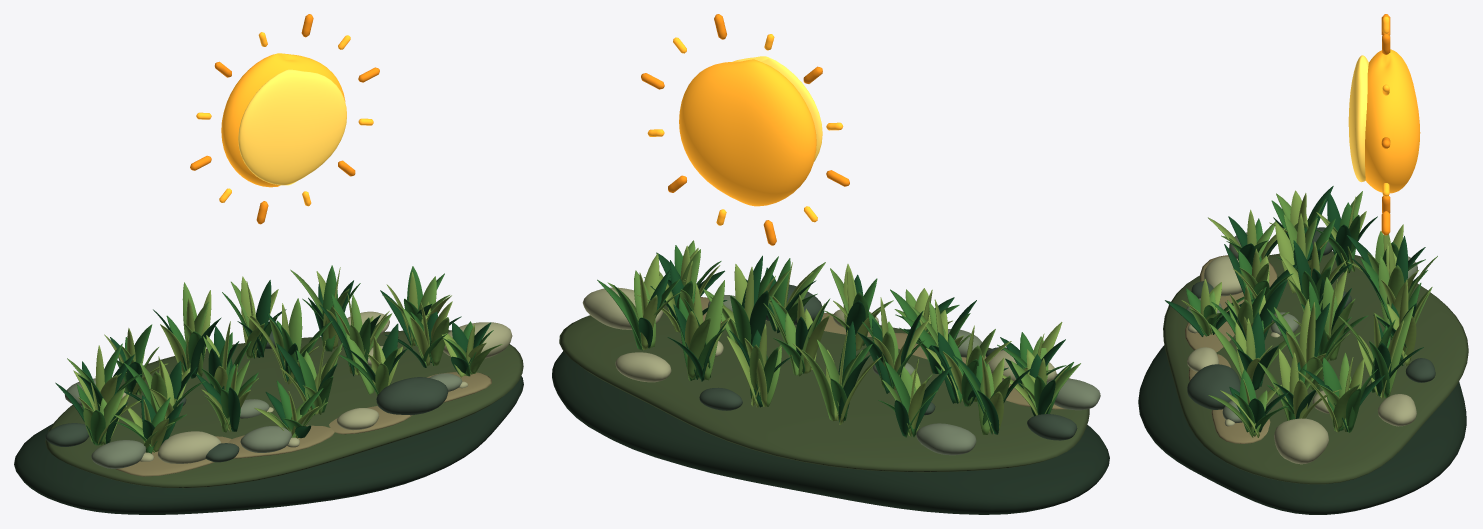
Rendered from sunny.glb.
3 views of the same model, side by side, from view 1: azimuth 30°, elevation 25°; view 2: azimuth 150°, elevation 25°; view 3: azimuth 270°, elevation 25° (orthographic). The views are drawn at different scales.
Parts seen in each view (by area): view 1: sunny_surface_01, sunny_surface_00, sunny_surface_06, sunny_surface_11, sunny_surface_03, sunny_surface_05, sunny_surface_04, sunny_surface_10, sunny_surface_08, sunny_surface_09, sunny_surface_02, sunny_surface_07 (+1 smaller); view 2: sunny_surface_01, sunny_surface_00, sunny_surface_10, sunny_surface_06, sunny_surface_03, sunny_surface_05, sunny_surface_04, sunny_surface_08, sunny_surface_07, sunny_surface_09, sunny_surface_12, sunny_surface_11 (+1 smaller); view 3: sunny_surface_01, sunny_surface_00, sunny_surface_06, sunny_surface_05, sunny_surface_03, sunny_surface_04, sunny_surface_10, sunny_surface_08, sunny_surface_09, sunny_surface_02, sunny_surface_11, sunny_surface_07 (+1 smaller).
Boxes of the visible parts, x1,y1,x2,y2 form: sunny_surface_01: (45, 330, 523, 488); sunny_surface_00: (14, 376, 523, 514); sunny_surface_06: (73, 267, 486, 452); sunny_surface_11: (238, 69, 346, 185); sunny_surface_03: (55, 280, 491, 444); sunny_surface_05: (67, 269, 502, 452); sunny_surface_04: (77, 265, 493, 453); sunny_surface_10: (196, 32, 373, 206); sunny_surface_08: (121, 311, 512, 463); sunny_surface_09: (45, 331, 448, 462); sunny_surface_02: (116, 371, 491, 476); sunny_surface_07: (64, 373, 462, 468); sunny_surface_01: (559, 302, 1089, 472); sunny_surface_00: (552, 351, 1109, 514); sunny_surface_10: (647, 34, 843, 225); sunny_surface_06: (637, 245, 1068, 435); sunny_surface_03: (638, 252, 1065, 436); sunny_surface_05: (607, 240, 1080, 436); sunny_surface_04: (597, 245, 1073, 437); sunny_surface_08: (582, 287, 1056, 384); sunny_surface_07: (708, 295, 1100, 455); sunny_surface_09: (699, 284, 1077, 440); sunny_surface_12: (641, 14, 849, 245); sunny_surface_11: (732, 56, 822, 161); sunny_surface_01: (1163, 251, 1468, 484); sunny_surface_00: (1138, 345, 1466, 514); sunny_surface_06: (1181, 190, 1430, 437); sunny_surface_05: (1189, 191, 1437, 437); sunny_surface_03: (1165, 186, 1425, 432); sunny_surface_04: (1186, 199, 1427, 432); sunny_surface_10: (1365, 16, 1420, 196); sunny_surface_08: (1187, 256, 1416, 464); sunny_surface_09: (1187, 227, 1435, 409); sunny_surface_02: (1185, 255, 1277, 443); sunny_surface_11: (1348, 55, 1368, 182); sunny_surface_07: (1186, 232, 1417, 422).
Size of the model in its own units: 4.31 by 3.47 by 2.45.
